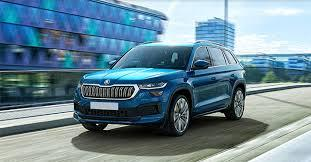skoda: (103, 79, 111, 85)
